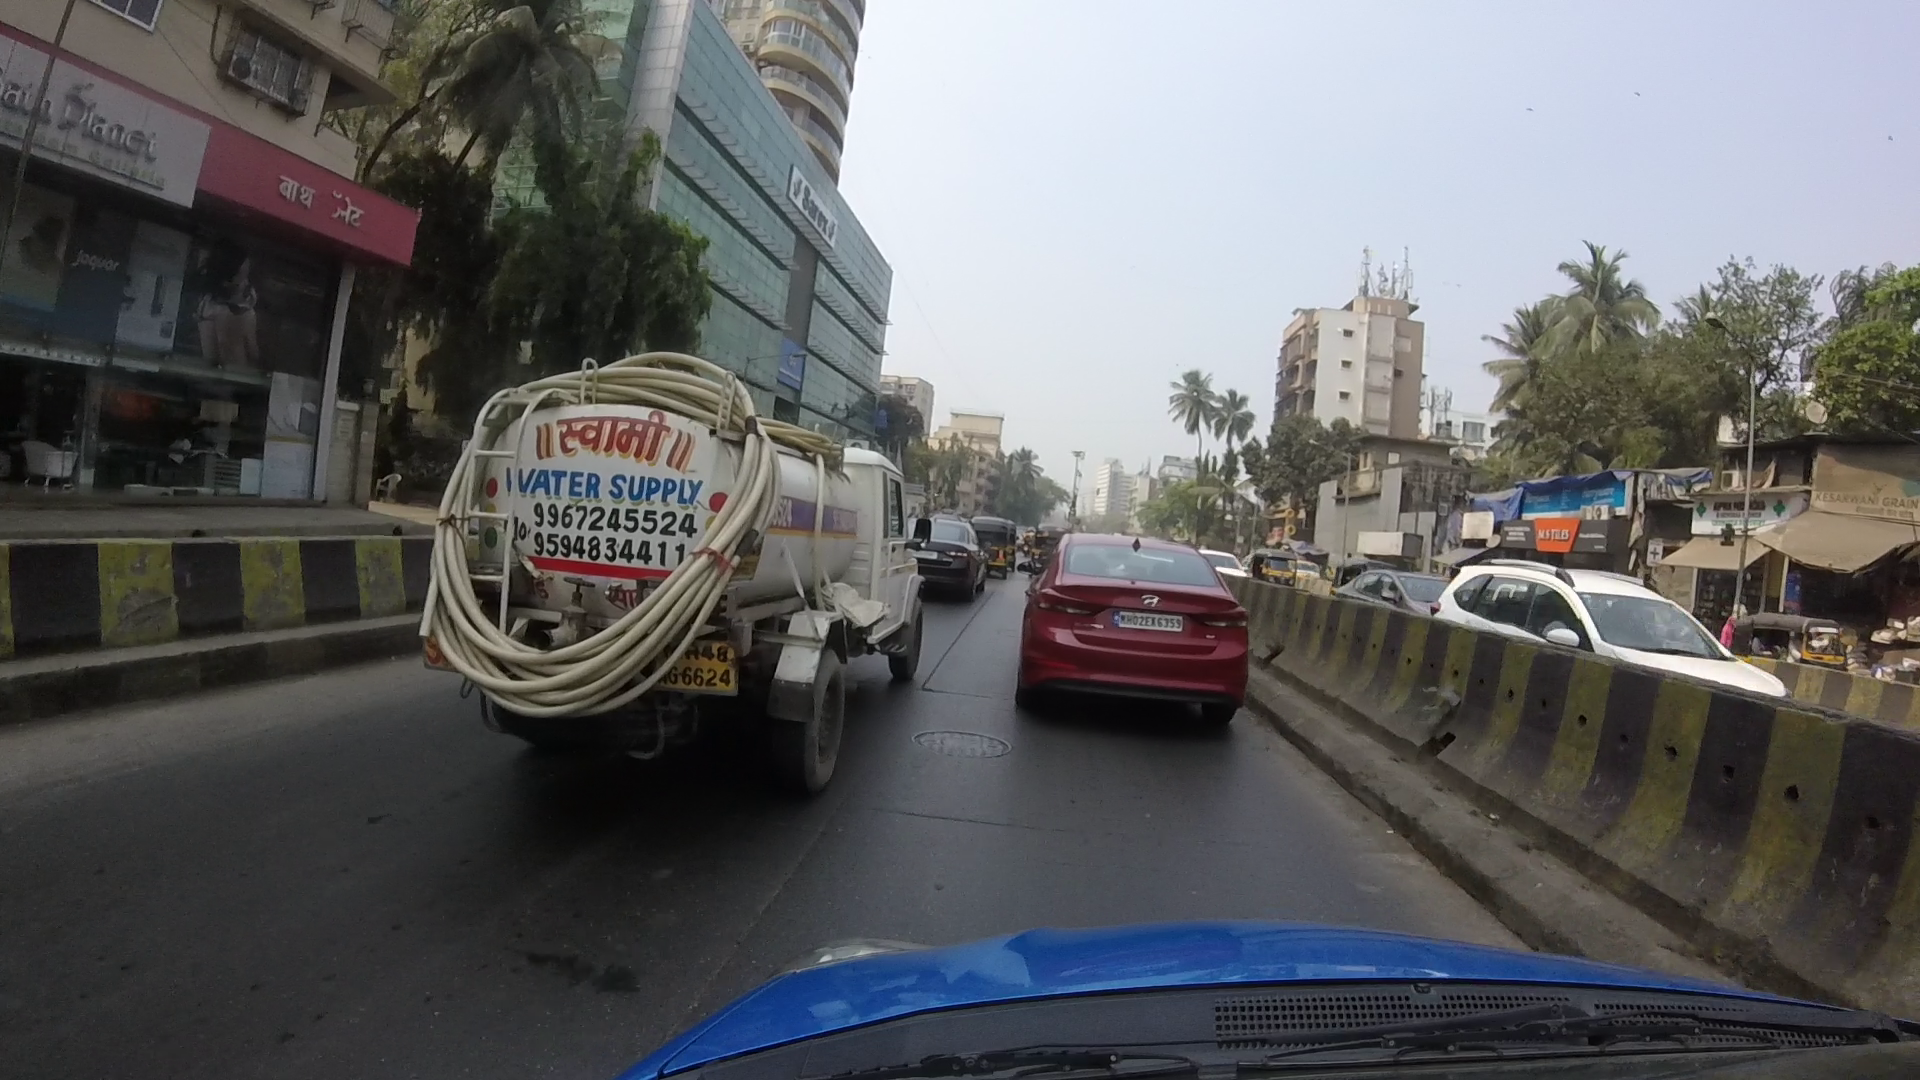car: (1443, 560, 1787, 702), (1029, 524, 1255, 727), (1331, 556, 1461, 622), (916, 516, 981, 607)
truck: (436, 344, 913, 800)
